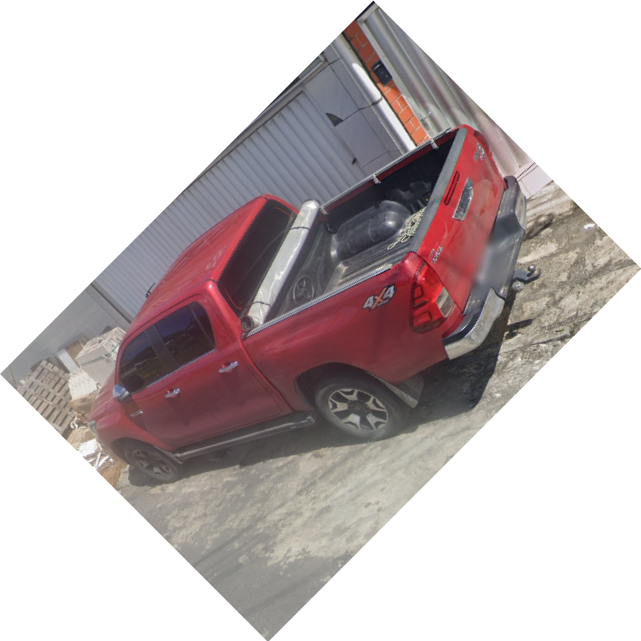car: (90, 122, 531, 484)
